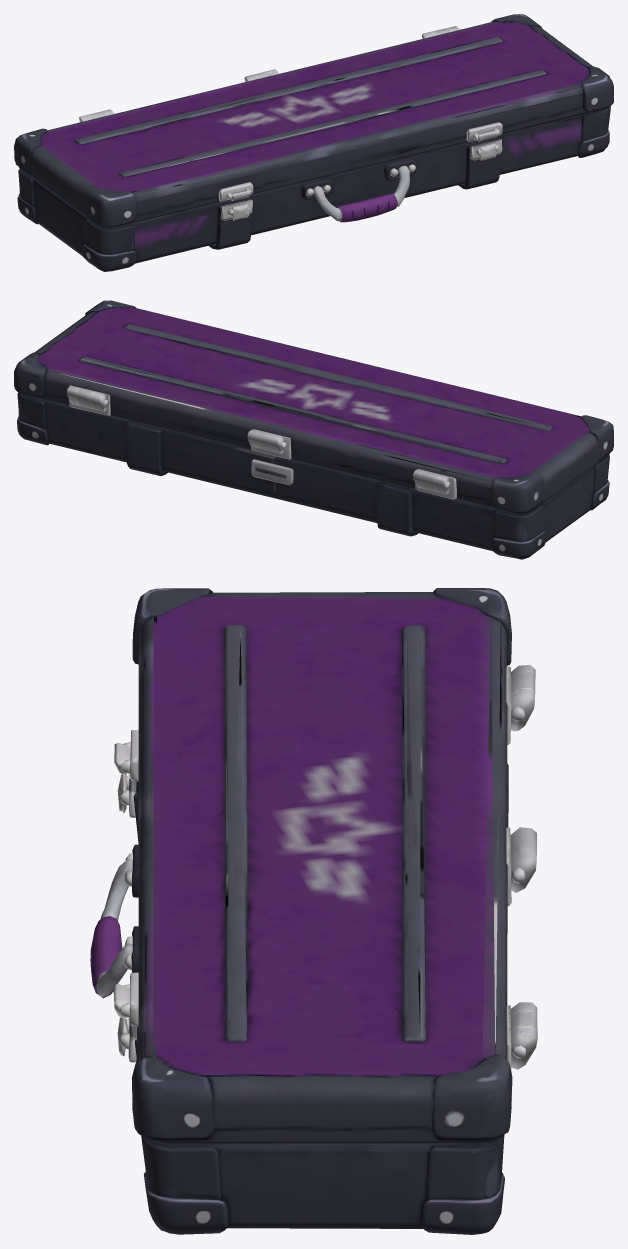
File: tier-4-long.glb
3 renders of one model, top to bottom at view 1: azimuth 30°, elevation 25°; view 2: azimuth 150°, elevation 25°; view 3: azimuth 270°, elevation 25°, orthographic. The views are drawn at different scales.
Visible parts, largest first — view 1: geometry_0; view 2: geometry_0; view 3: geometry_0.
Boxes of the visible parts, <box> form: geometry_0: <box>14,14,613,271</box>; geometry_0: <box>14,300,613,559</box>; geometry_0: <box>90,588,537,1234</box>.
Bounding box in the file's own units: 1 × 0.1511 × 0.377.
Materials: 1 (1 with a texture image).
